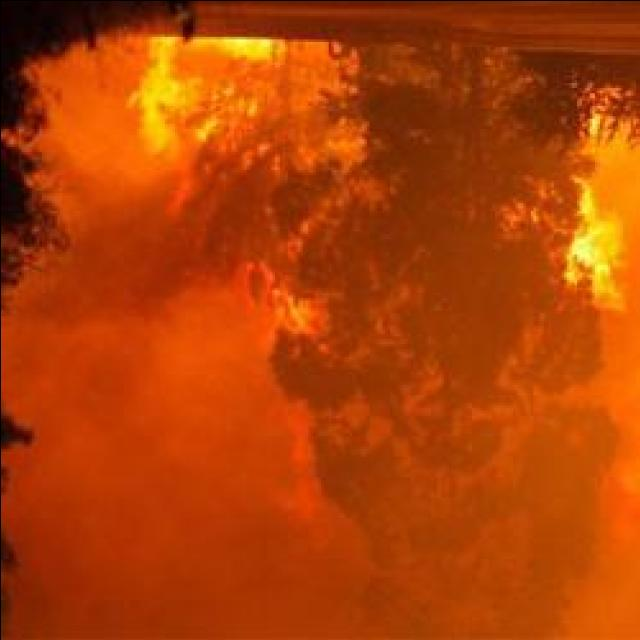fire: (137, 29, 282, 152), (565, 173, 633, 320)
smoke: (11, 359, 297, 638), (31, 174, 269, 352)
